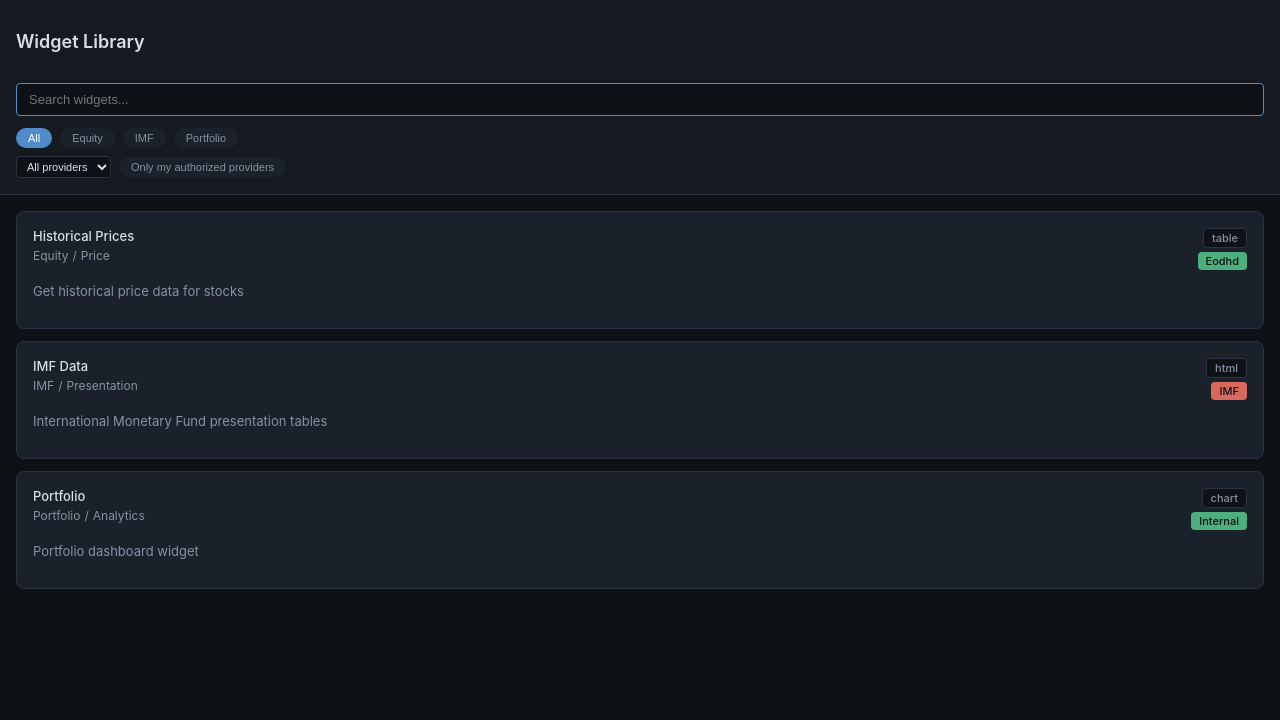
Test: WidgetLibrary › provider filtering › authorized-only keeps keyed and keyless, drops unkeyed and unknown
Click the button "Only my authorized providers" at [203, 167], box x1=119 y1=157 x2=286 y2=177
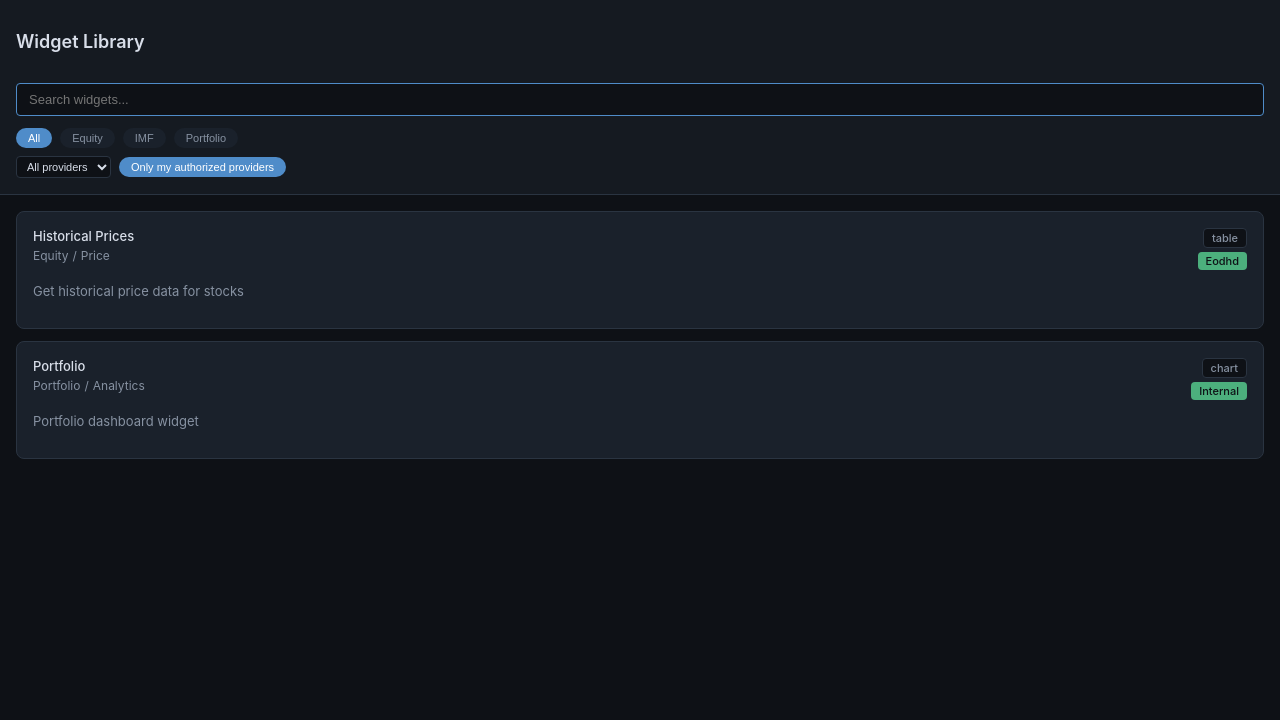
Expected: the text "Historical Prices" is shown, x1=33 y1=228 x2=134 y2=244
Now the button "IMF Data" is gone
